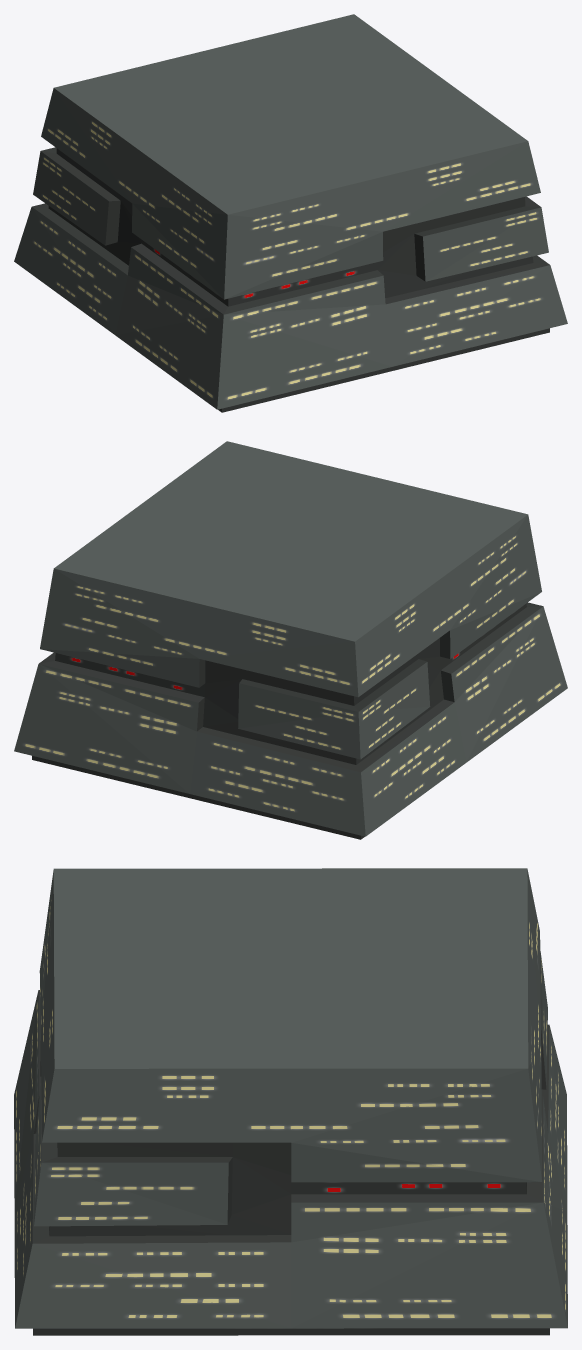
File: squatBuilding.obj
The picture shows the model from 3 angles, top to bottom: view 1: azimuth 30°, elevation 25°; view 2: azimuth 150°, elevation 25°; view 3: azimuth 270°, elevation 25°; orthographic projection. The views are drawn at different scales.
Parts seen in each view (by area): view 1: obj.squatBuilding.000_Cube.001; view 2: obj.squatBuilding.000_Cube.001; view 3: obj.squatBuilding.000_Cube.001.
Part boxes in pixels (left/top/right/bottom): obj.squatBuilding.000_Cube.001: left=14, top=14, right=567, bottom=412; obj.squatBuilding.000_Cube.001: left=14, top=441, right=567, bottom=839; obj.squatBuilding.000_Cube.001: left=14, top=868, right=567, bottom=1335.
Bounding box in the file's own units: 36.42 × 18.69 × 36.43.
